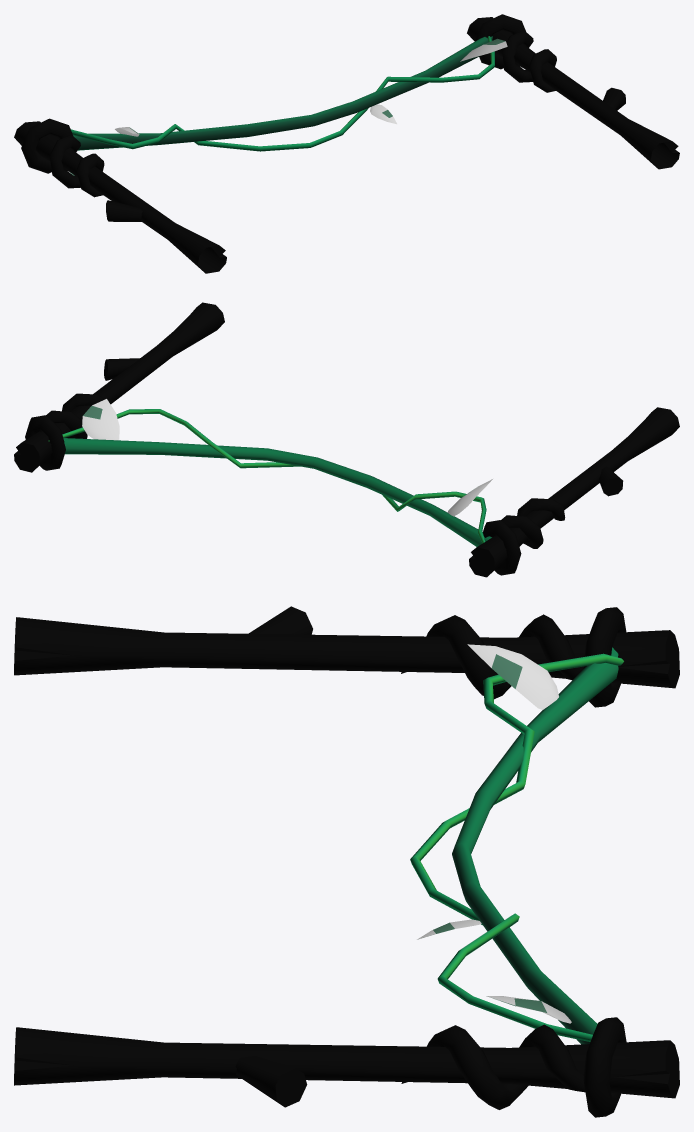
The model's file is JungleVine_BK.fbx.
3 views of the same model, one above another, from view 1: azimuth 30°, elevation 25°; view 2: azimuth 150°, elevation 25°; view 3: azimuth 270°, elevation 25° (orthographic). The views are drawn at different scales.
Visible parts, largest first — view 1: JungleVine; view 2: JungleVine; view 3: JungleVine.
Boxes of the visible parts, x1,y1,x2,y2 form: JungleVine: (14, 14, 679, 273); JungleVine: (14, 302, 679, 577); JungleVine: (14, 606, 679, 1117).
Bounding box in the file's own units: 229 × 26.61 × 141.
